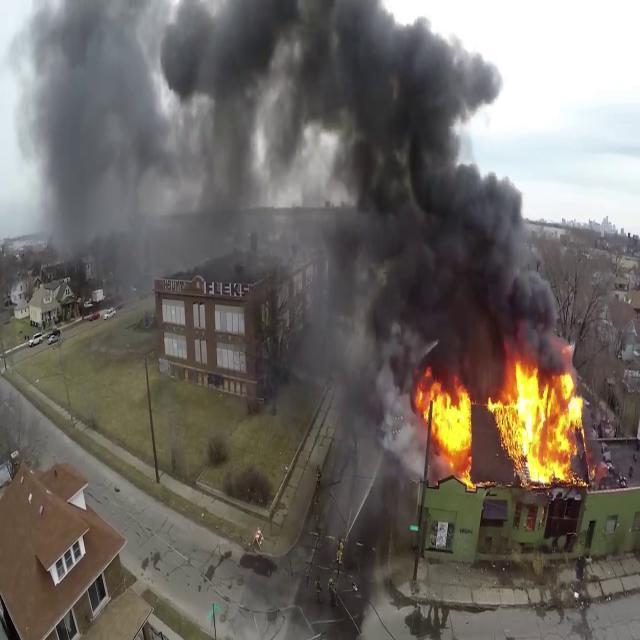Fire: (416, 353, 590, 486)
Smoke: (260, 0, 562, 374), (19, 0, 289, 284)
